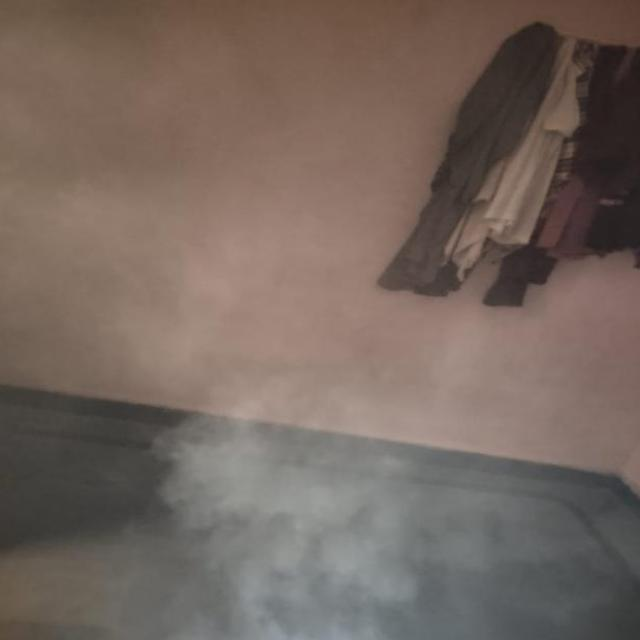fire: (106, 315, 501, 640)
